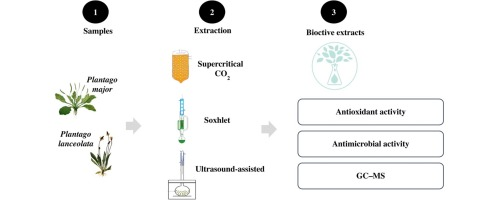buckhorn plantain: (86, 130, 118, 173)
